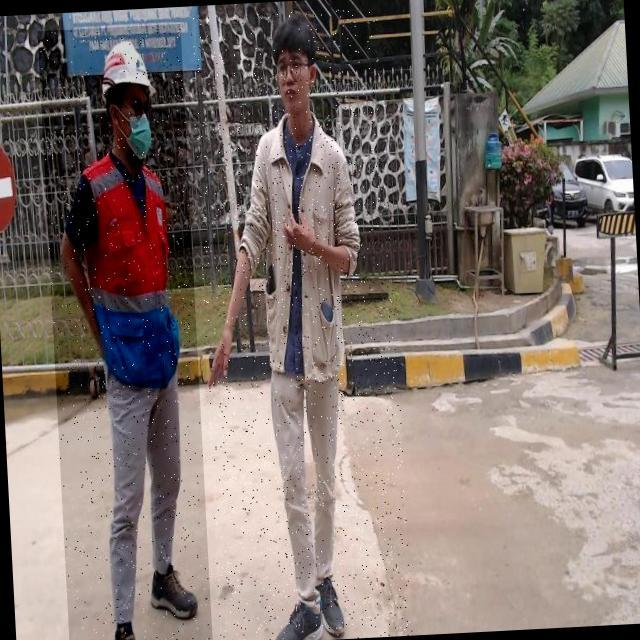Helmet: (98, 37, 157, 102)
Human: (188, 7, 413, 640), (37, 23, 212, 640)
Safety Boot: (148, 564, 199, 625), (272, 596, 324, 640), (318, 579, 350, 640), (111, 621, 137, 640)
Safety Vest: (82, 152, 182, 390)
